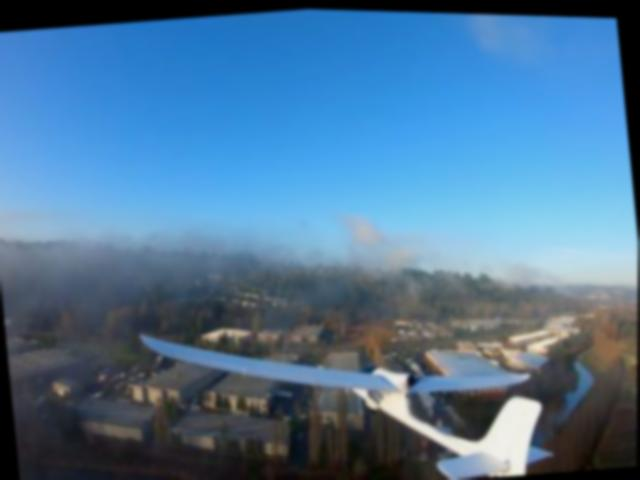uav: (128, 277, 566, 480)
